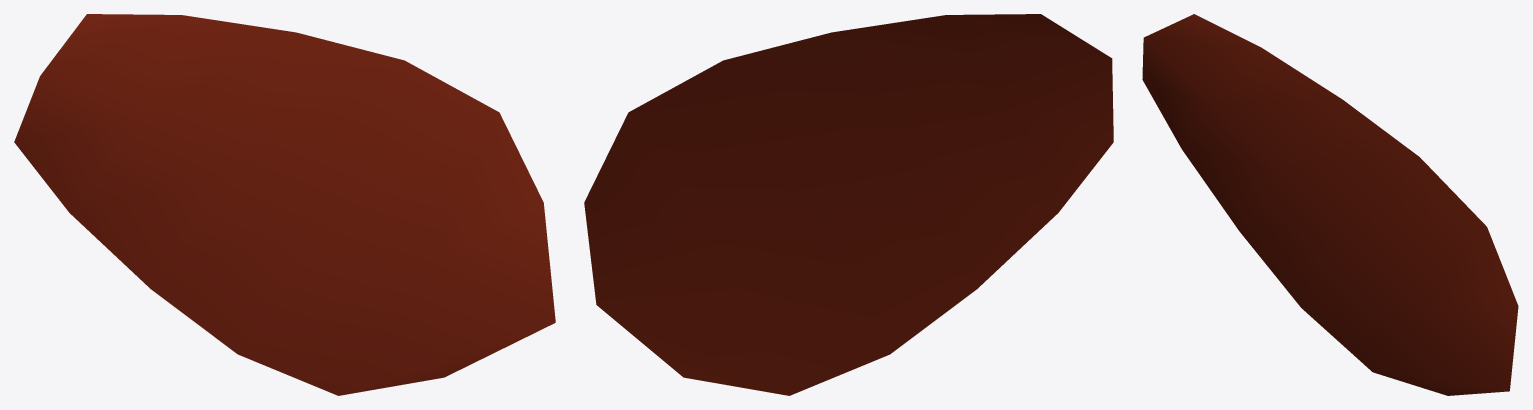
Rendered from pheasant_feather_flight_tertiary_039.obj.
3 renders of one model, left to right at view 1: azimuth 30°, elevation 25°; view 2: azimuth 150°, elevation 25°; view 3: azimuth 330°, elevation 25°, orthographic. The views are drawn at different scales.
Parts seen in each view (by area): view 1: feather_flight_tertiary_039; view 2: feather_flight_tertiary_039; view 3: feather_flight_tertiary_039.
Part boxes in pixels (left/top/right/bottom): feather_flight_tertiary_039: left=14, top=14, right=555, bottom=395; feather_flight_tertiary_039: left=584, top=14, right=1113, bottom=395; feather_flight_tertiary_039: left=1142, top=14, right=1518, bottom=395.
Bounding box in the file's own units: 0.016 × 0.013 × 0.000634.
